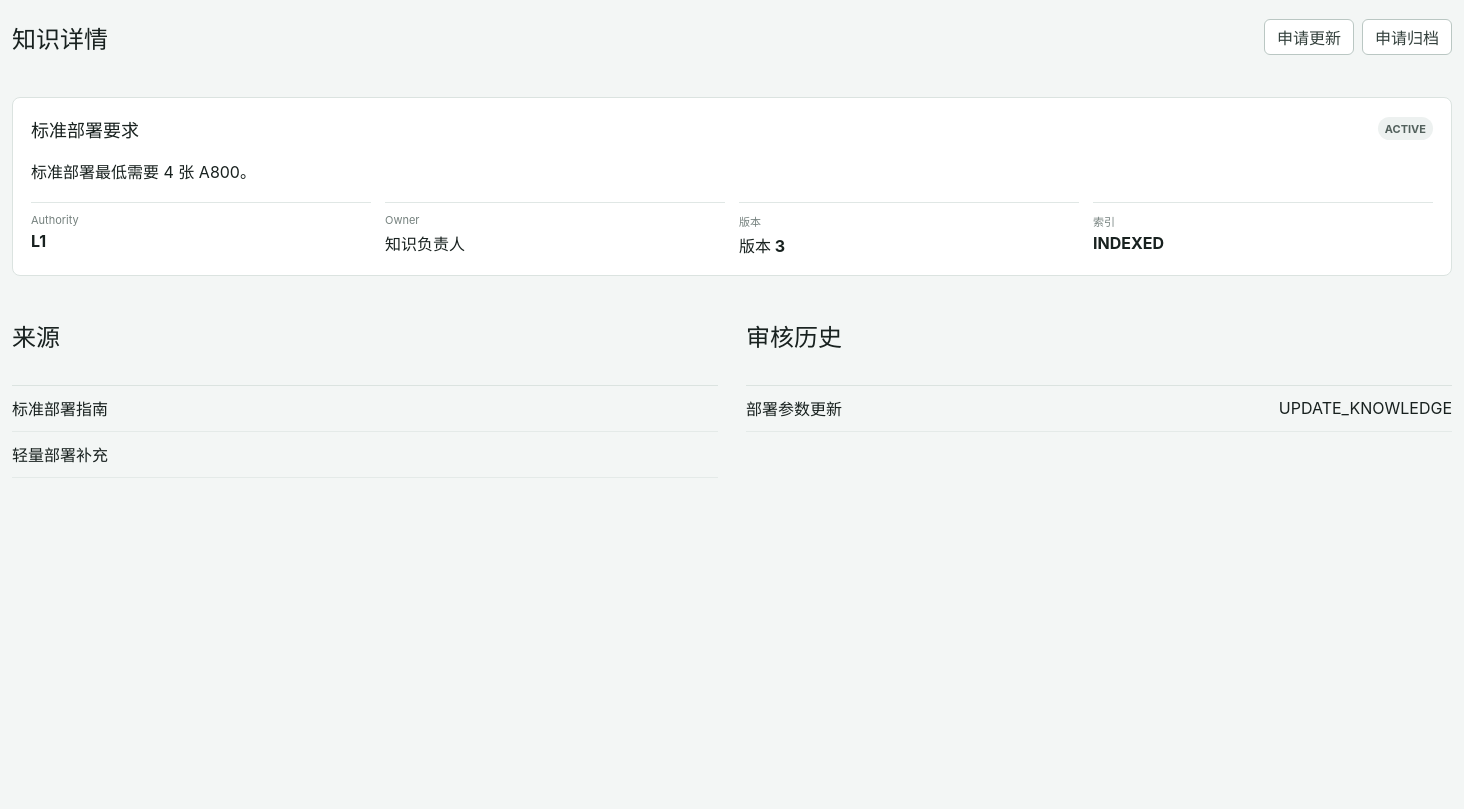
Scenario: KnowledgeDetailPage › creates update and archive reviews without directly modifying knowledge
Click the button "申请更新": (1309, 37) x1=1264 y1=19 x2=1354 y2=55
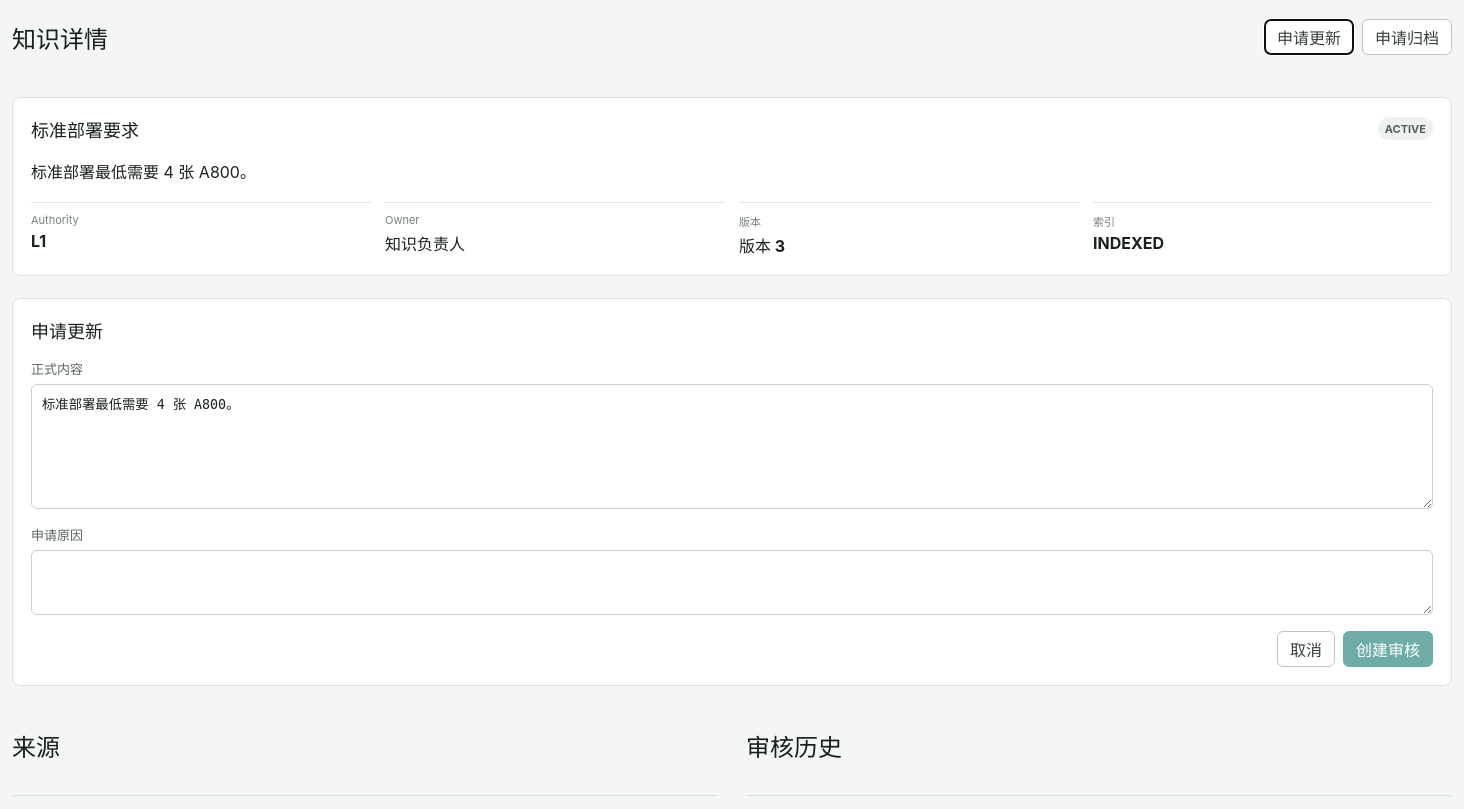
Replace the text in the text box labelled "正式内容" with "更新后的部署要求": (732, 446) x1=31 y1=384 x2=1433 y2=509
In the text box labelled "申请原因": (732, 582) x1=31 y1=550 x2=1433 y2=615, type "参数已经调整"
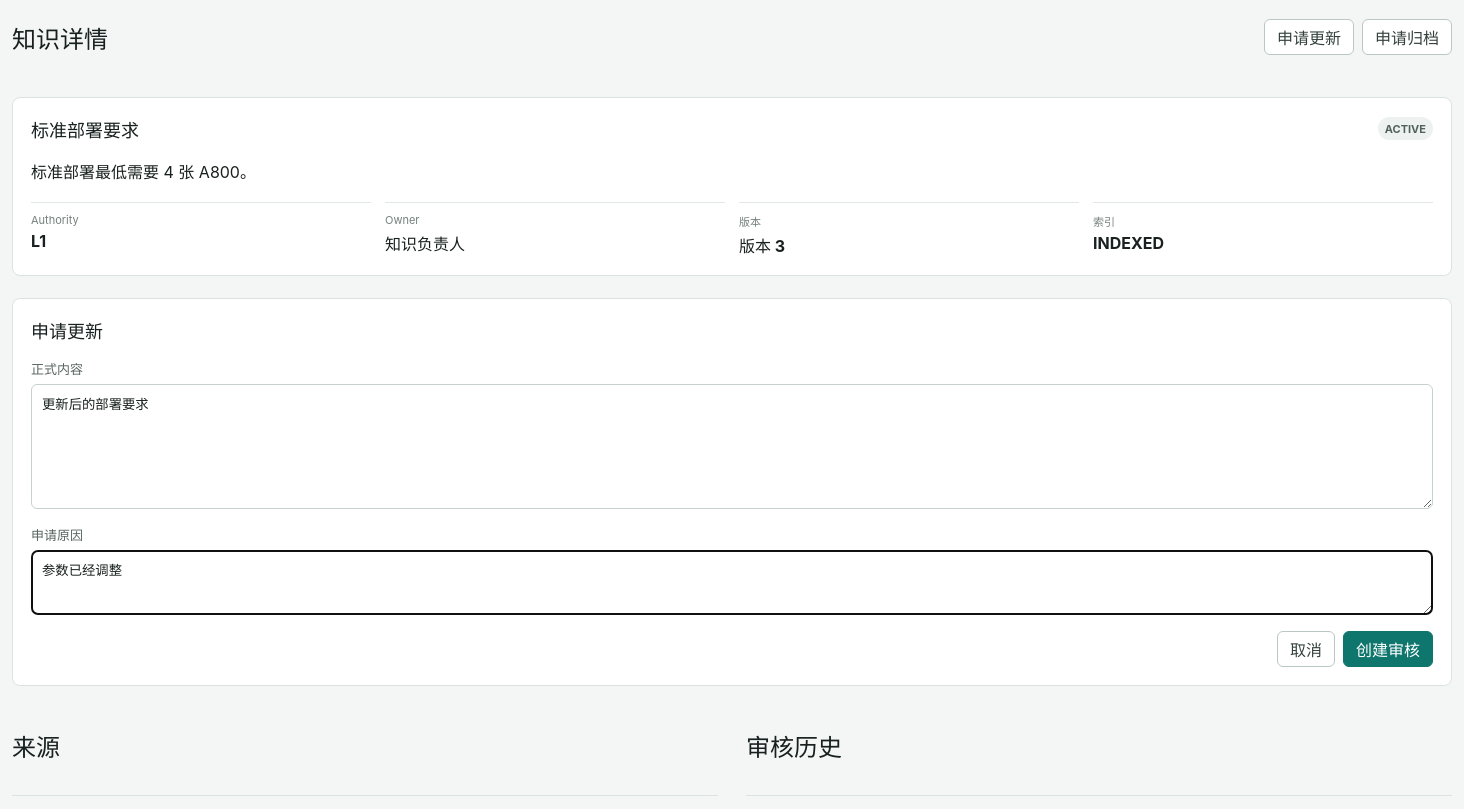
Click the button "创建审核": (1388, 649) x1=1343 y1=631 x2=1433 y2=667
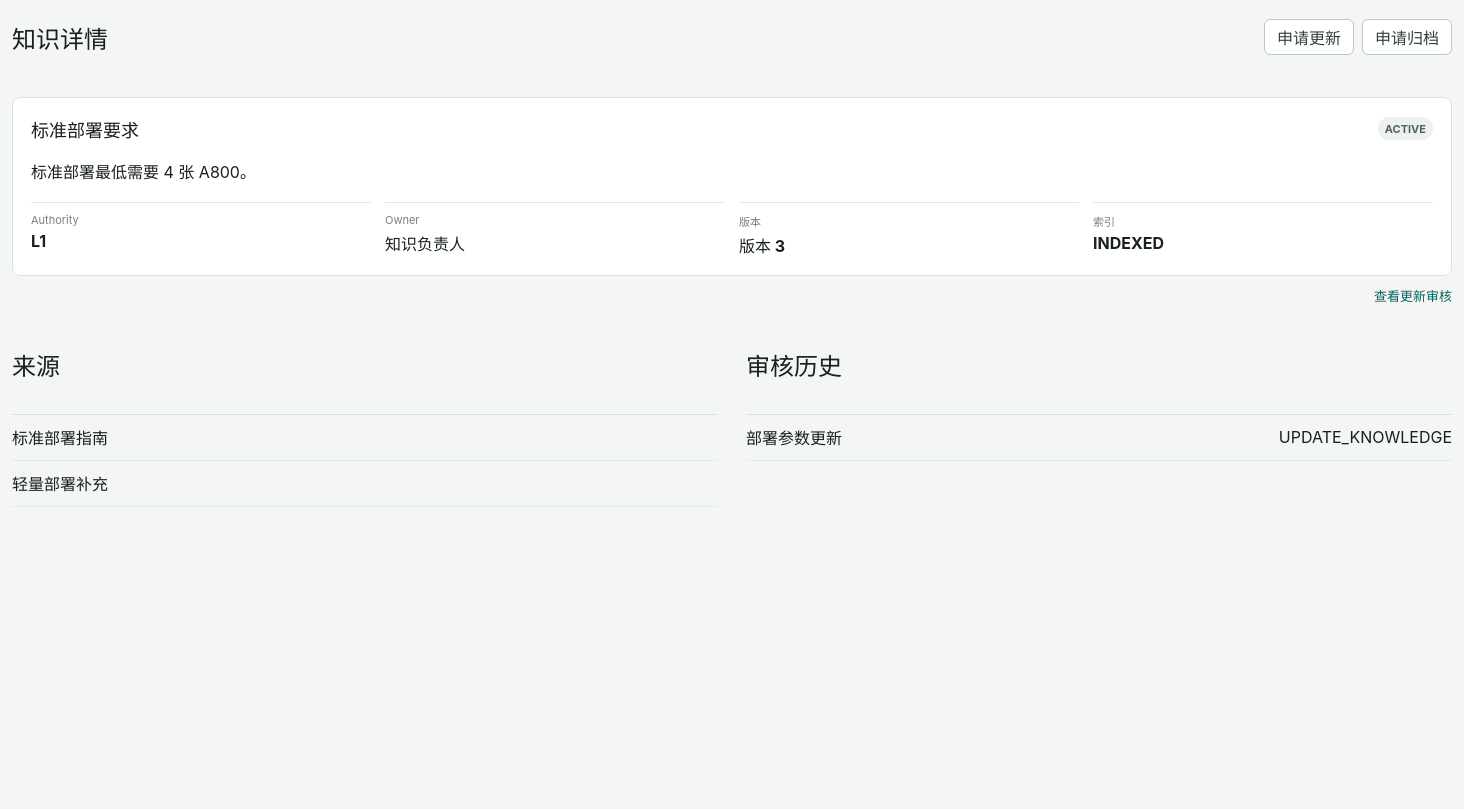
Check: the link "查看更新审核" is shown, box x1=1374 y1=286 x2=1452 y2=305
Click the button "申请归档": (1407, 37) x1=1362 y1=19 x2=1452 y2=55
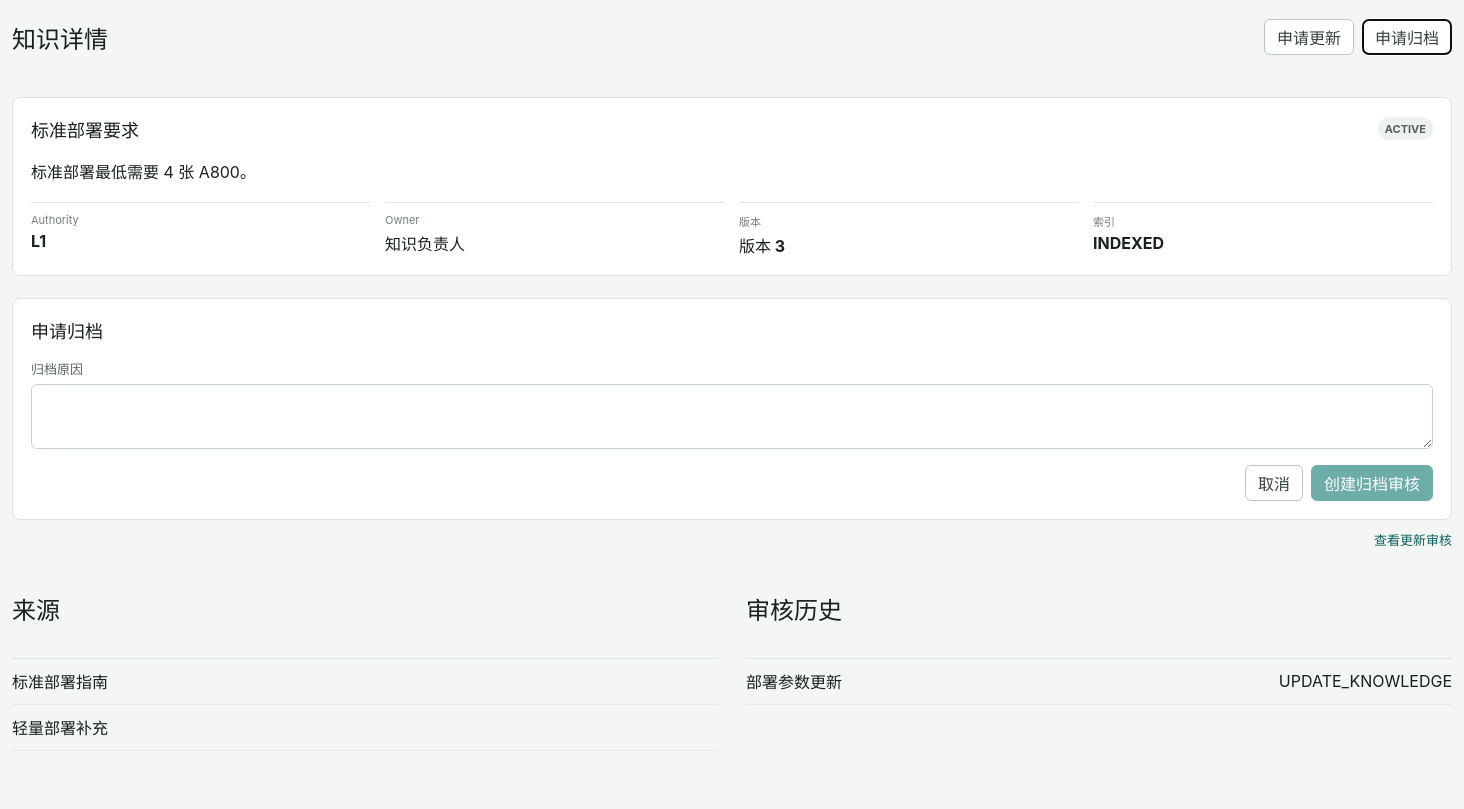
In the text box labelled "归档原因": (732, 416) x1=31 y1=384 x2=1433 y2=449, type "产品已经下线"
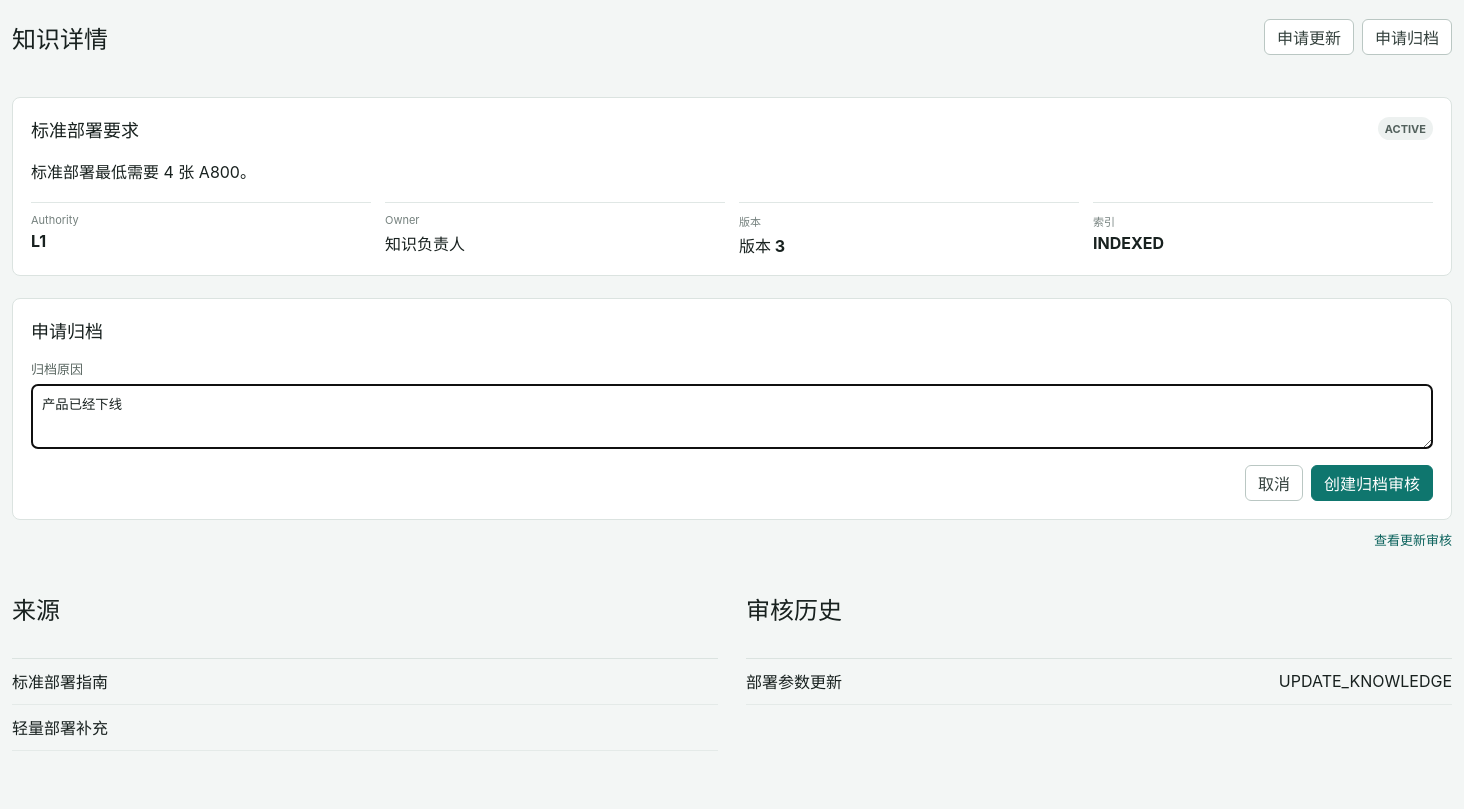
Click the button "创建归档审核": (1372, 483) x1=1311 y1=465 x2=1433 y2=501
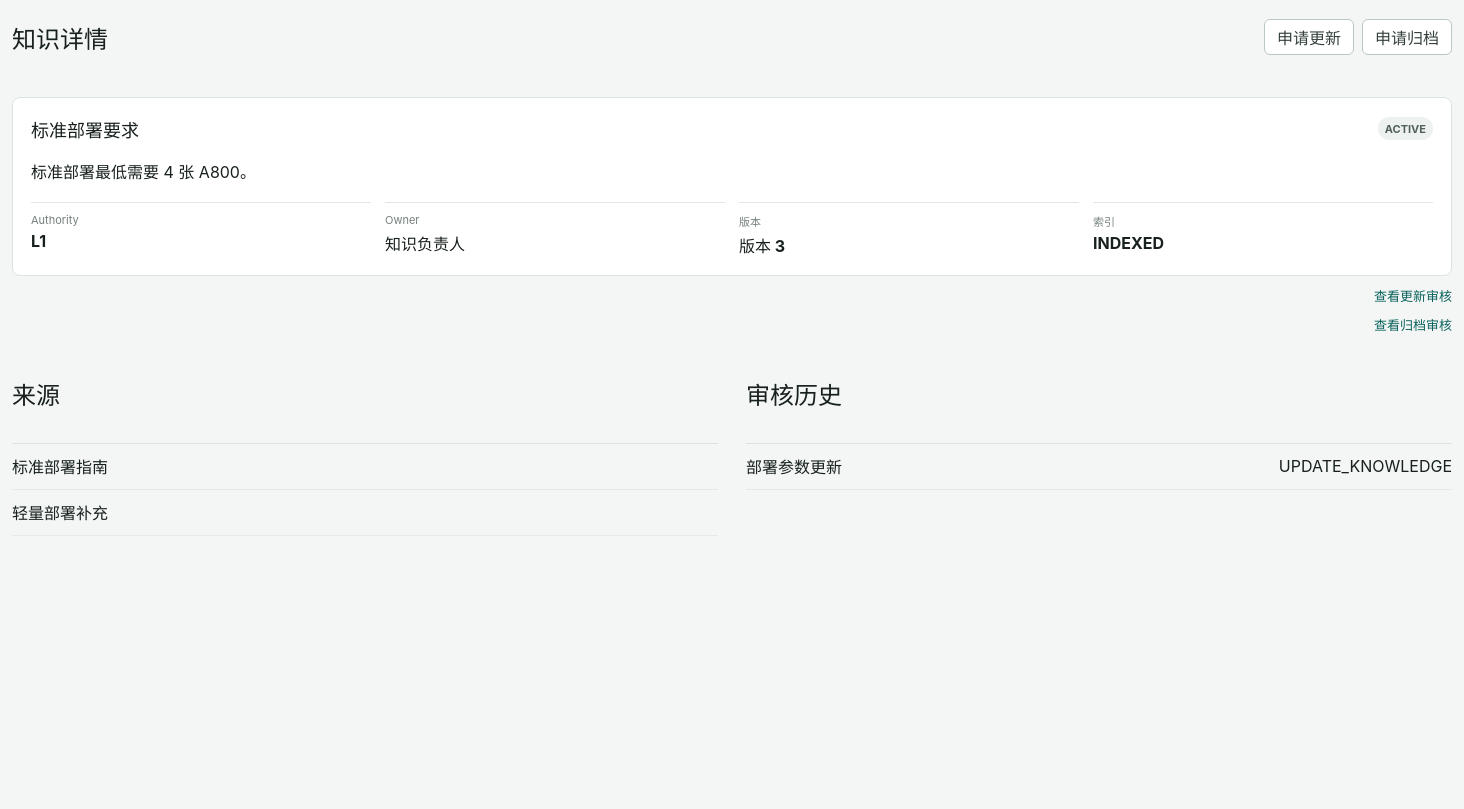
Check: the text "标准部署最低需要 4 张 A800。" is shown, box x1=31 y1=162 x2=256 y2=182
Check: the link "查看归档审核" is shown, box x1=1374 y1=315 x2=1452 y2=334
